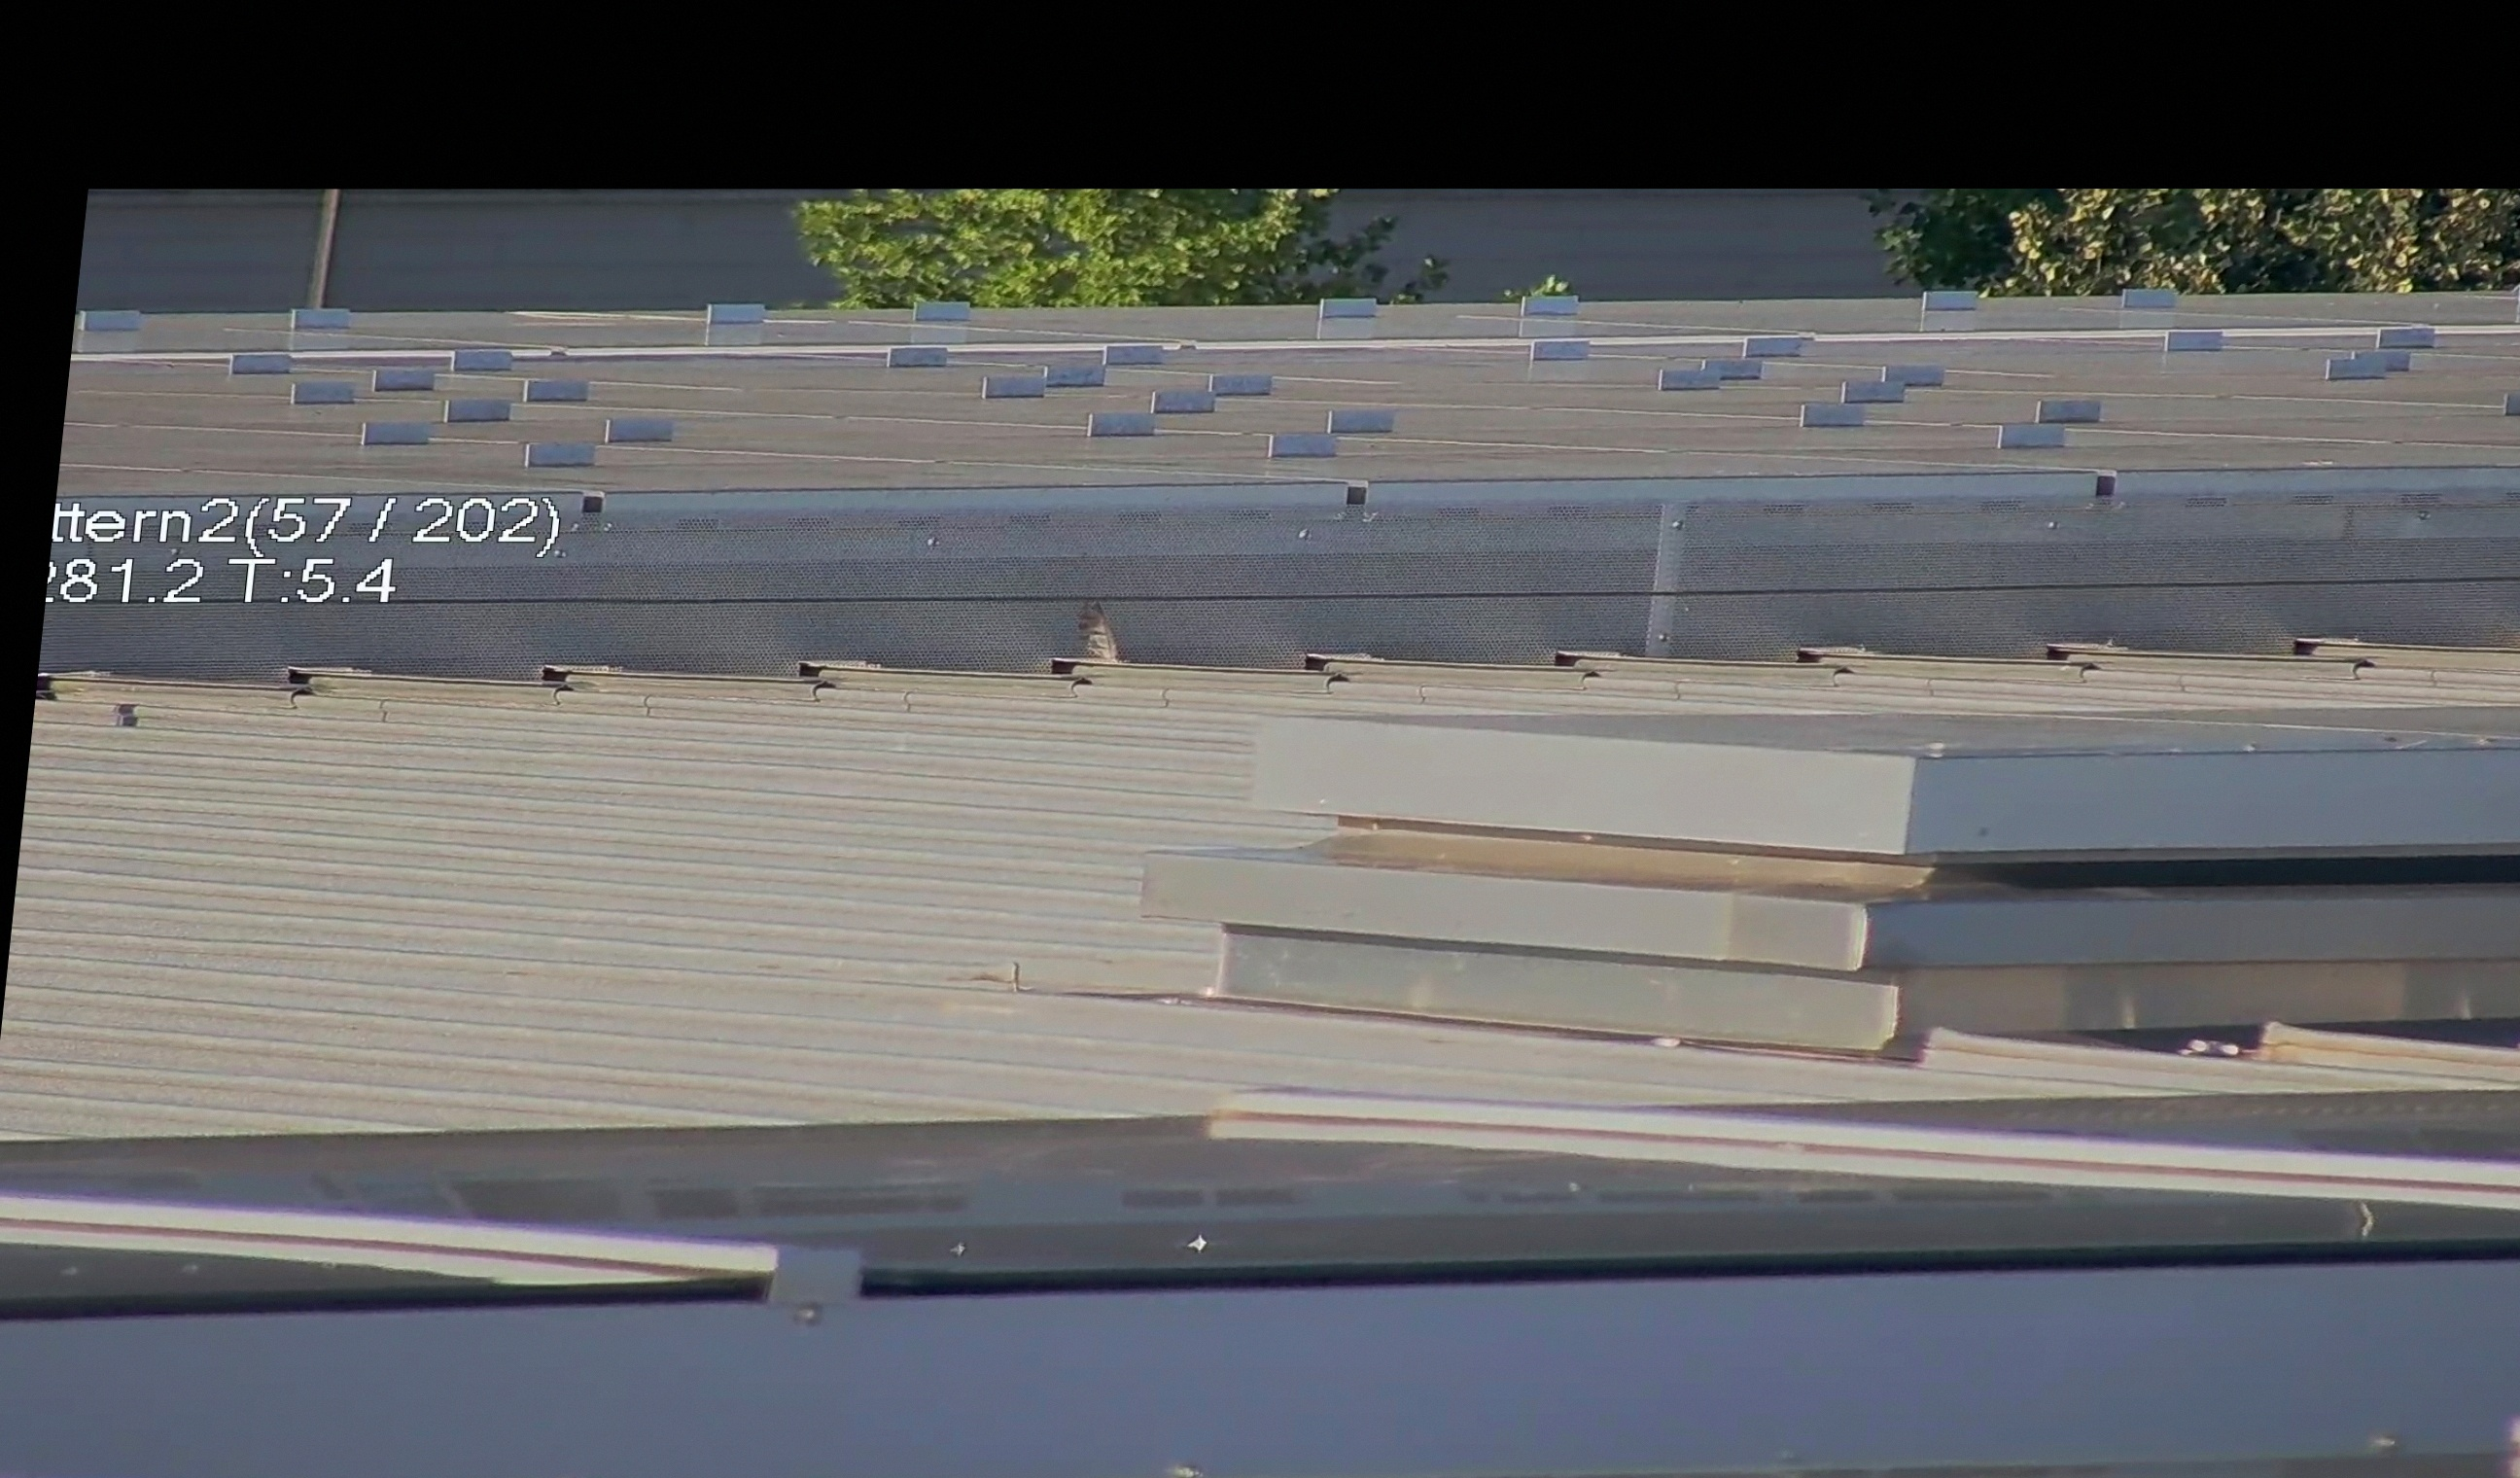Other: (1038, 584, 1133, 686)
